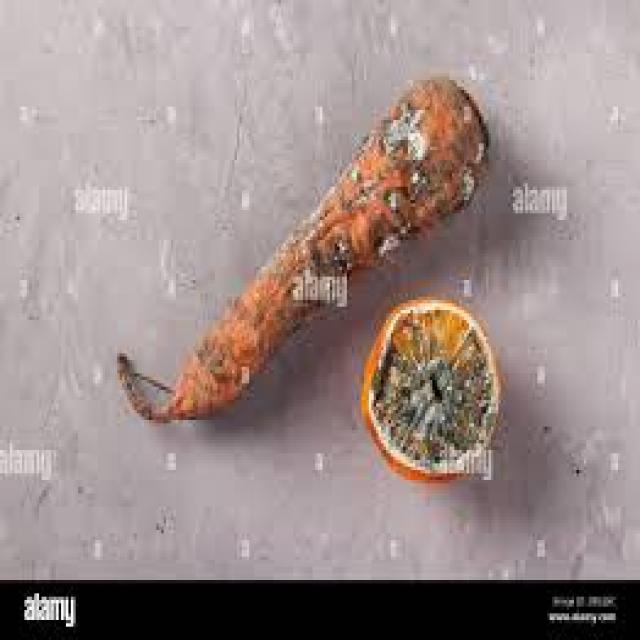Stale_Carrot: (153, 73, 495, 410)
